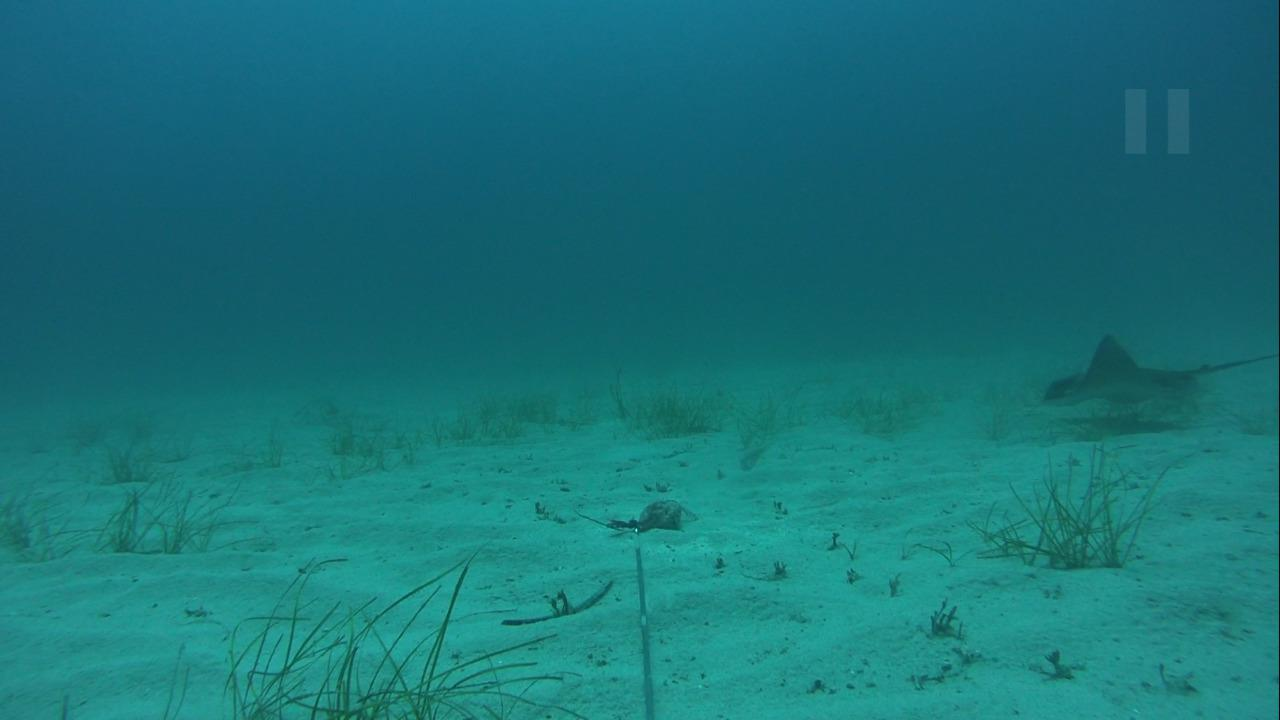myliobatis: (1035, 329, 1279, 405)
raor: (731, 433, 779, 482)
